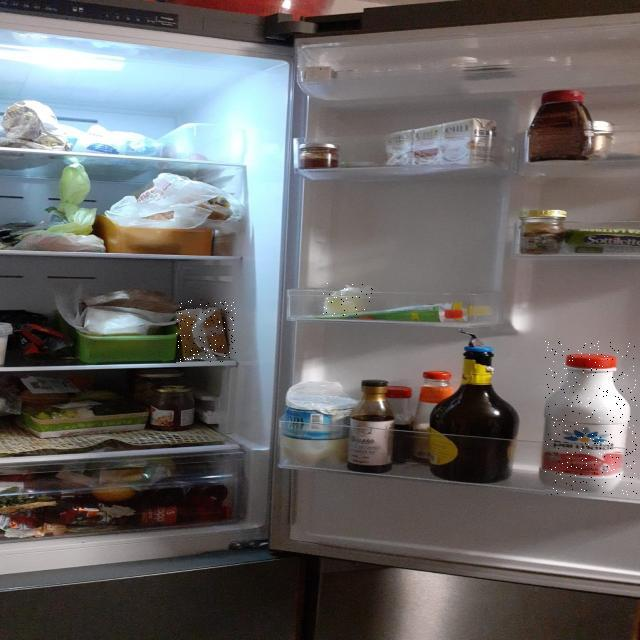cheese: (176, 300, 236, 364), (323, 283, 373, 317)
milk: (545, 342, 637, 496)
